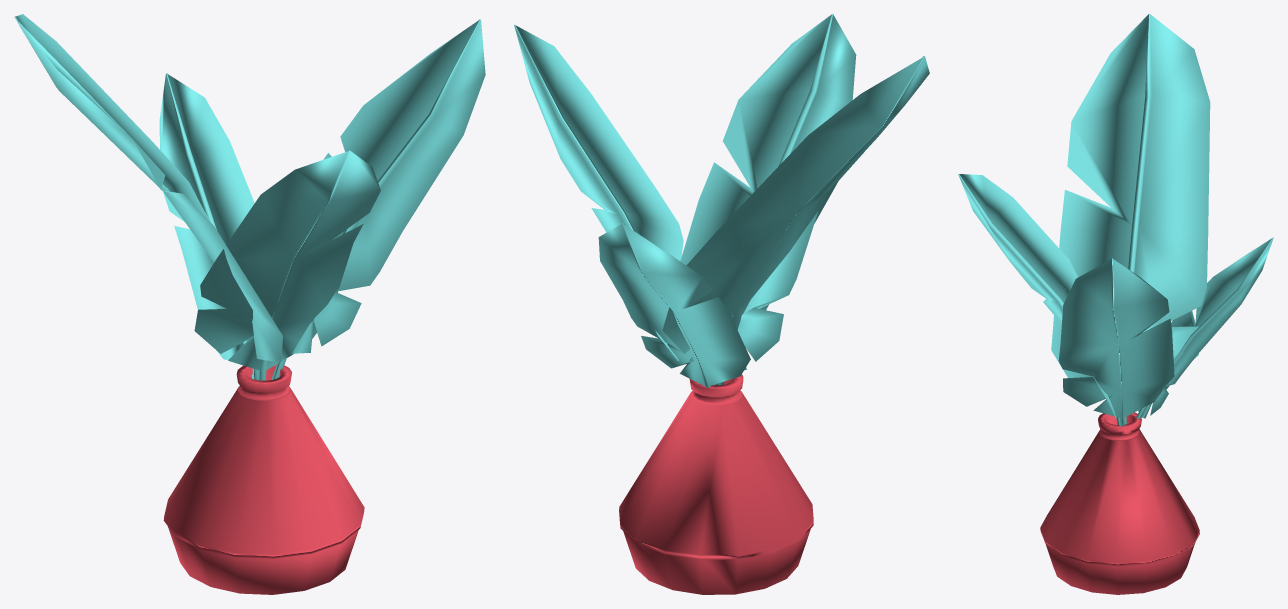
File: Deko_vase_Blatter_2te.fbx
3 views of the same model, side by side, from view 1: azimuth 30°, elevation 25°; view 2: azimuth 150°, elevation 25°; view 3: azimuth 270°, elevation 25° (orthographic). The views are drawn at different scales.
Visible parts, largest first — view 1: Plane.002; view 2: Plane.002; view 3: Plane.002.
Part boxes in pixels (x1,y1,x2,y2): Plane.002: [14, 14, 485, 594]; Plane.002: [514, 14, 929, 594]; Plane.002: [958, 14, 1273, 594].
Size of the model in its own units: 111 by 140 by 86.45.
